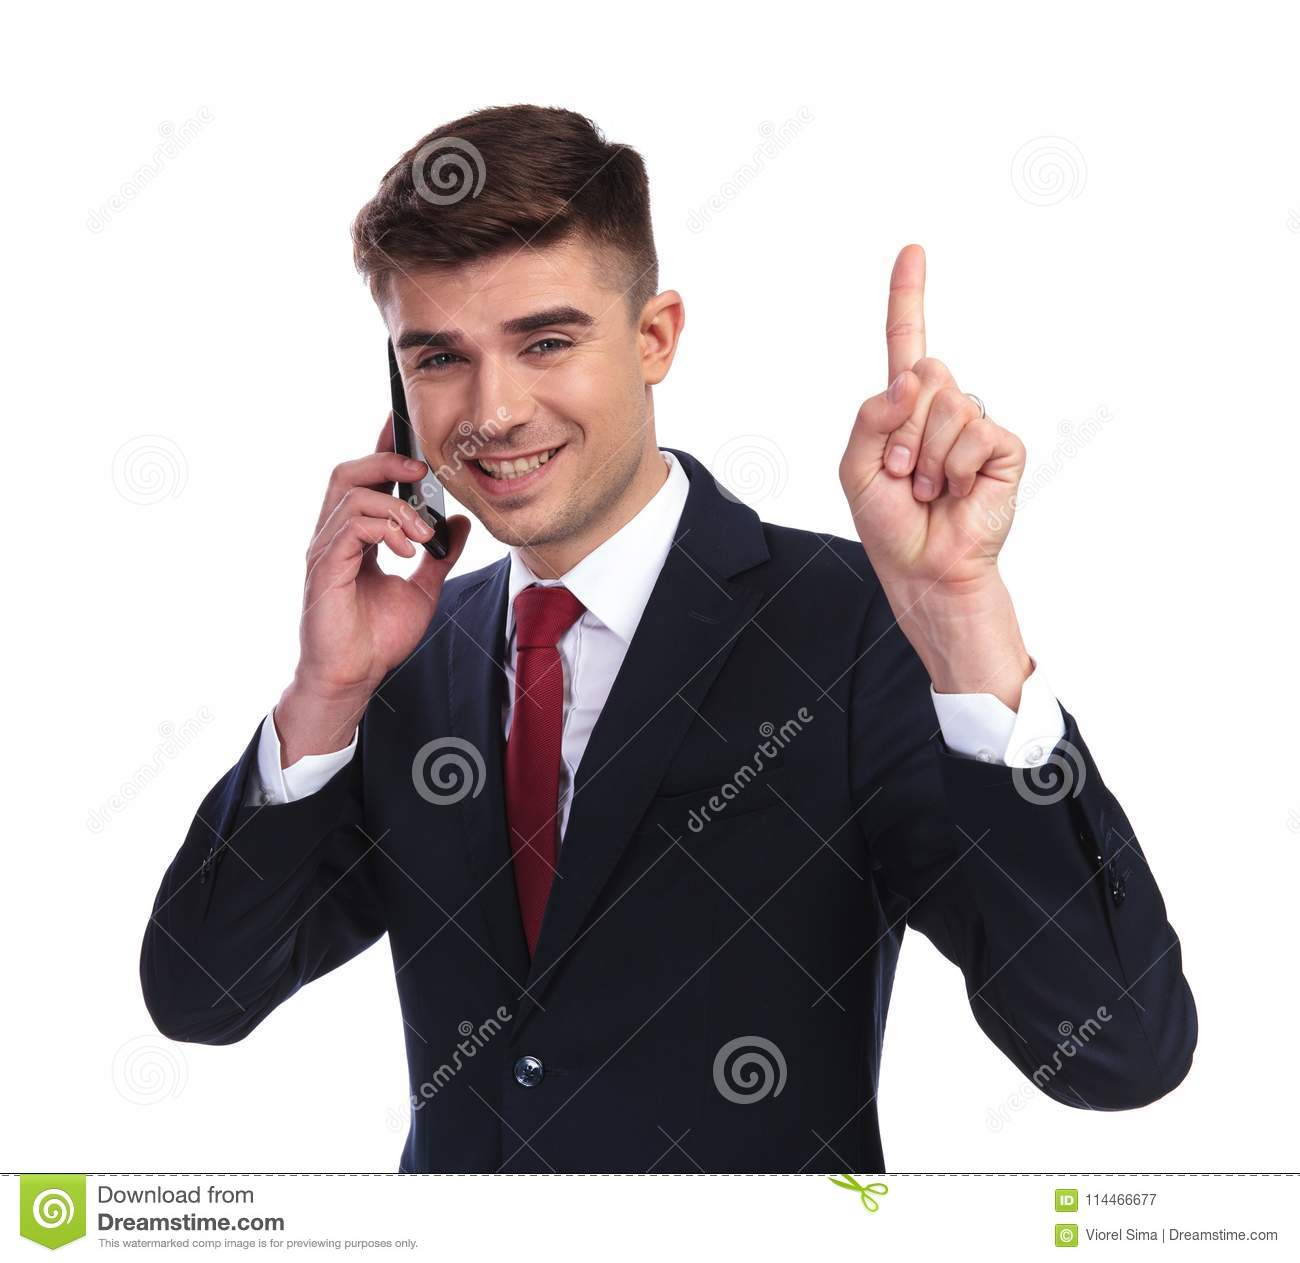phone: (387, 319, 450, 575)
talk: (294, 299, 609, 681)
